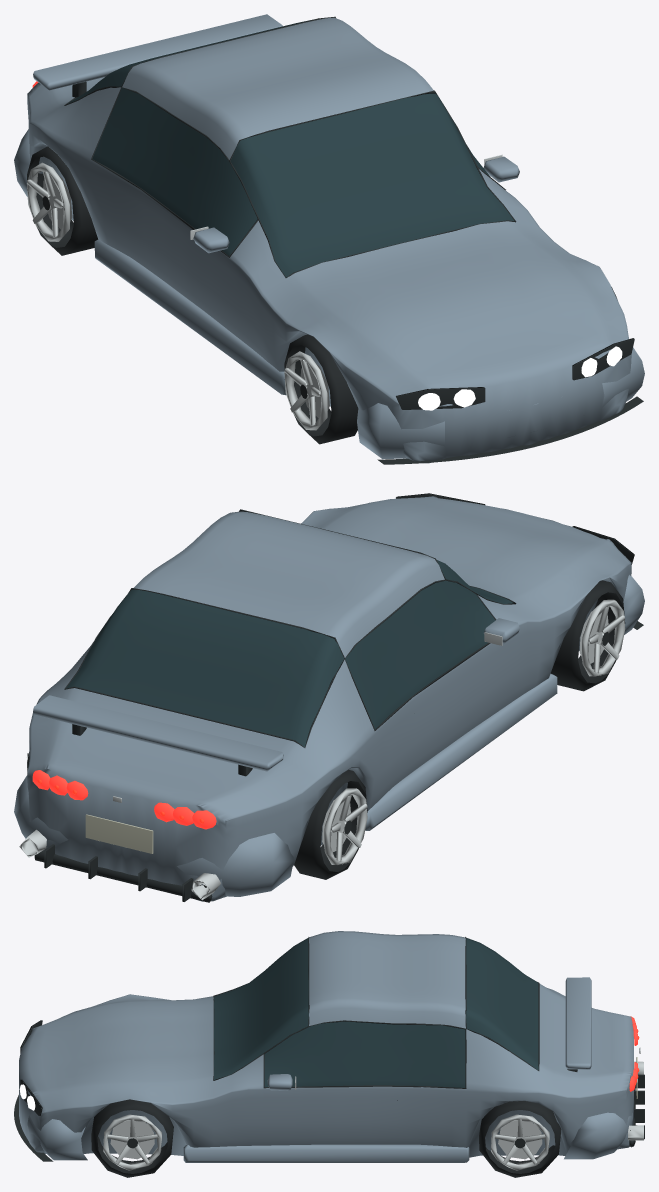
The model's file is neralith-averis.glb.
The picture shows the model from 3 angles, top to bottom: view 1: azimuth 30°, elevation 25°; view 2: azimuth 150°, elevation 25°; view 3: azimuth 270°, elevation 25°; orthographic projection. The views are drawn at different scales.
Visible parts, largest first — view 1: scocca, cofano, cristallo_ant, tetto, cristallo_sx, porta_sx, minigonna_sx, spoiler, paraurti_ant, ruota_ant_sx_gomma, ruota_post_sx_gomma, splitter_ant (+13 smaller); view 2: scocca, cristallo_post, tetto, cofano, portellone, cristallo_sx, porta_sx, spoiler, paraurti_post, minigonna_sx, ruota_ant_sx_gomma, ruota_post_sx_gomma (+9 smaller); view 3: scocca, cofano, tetto, porta_dx, cristallo_dx, cristallo_ant, cristallo_post, portellone, minigonna_dx, spoiler, ruota_ant_dx_gomma, paraurti_post (+13 smaller).
Part boxes in pixels (bbox=[...]): scocca: bbox=[27, 82, 631, 463]; cofano: bbox=[286, 221, 609, 380]; cristallo_ant: bbox=[230, 93, 514, 277]; tetto: bbox=[122, 17, 433, 159]; cristallo_sx: bbox=[92, 88, 257, 255]; porta_sx: bbox=[91, 160, 244, 342]; minigonna_sx: bbox=[94, 239, 286, 395]; spoiler: bbox=[33, 14, 282, 90]; paraurti_ant: bbox=[357, 347, 644, 459]; ruota_ant_sx_gomma: bbox=[284, 334, 358, 444]; ruota_post_sx_gomma: bbox=[27, 146, 97, 255]; splitter_ant: bbox=[377, 396, 643, 464]; scocca: bbox=[27, 496, 631, 901]; cristallo_post: bbox=[65, 589, 344, 747]; tetto: bbox=[134, 511, 444, 657]; cofano: bbox=[319, 497, 609, 604]; portellone: bbox=[42, 688, 304, 809]; cristallo_sx: bbox=[345, 580, 495, 729]; porta_sx: bbox=[368, 636, 516, 810]; spoiler: bbox=[33, 695, 283, 771]; paraurti_post: bbox=[14, 775, 293, 896]; minigonna_sx: bbox=[365, 673, 557, 830]; ruota_ant_sx_gomma: bbox=[550, 580, 625, 691]; ruota_post_sx_gomma: bbox=[294, 769, 367, 879]; scocca: bbox=[19, 988, 633, 1157]; cofano: bbox=[41, 996, 213, 1095]; tetto: bbox=[309, 931, 465, 1028]; porta_dx: bbox=[248, 1086, 465, 1147]; cristallo_dx: bbox=[264, 1021, 465, 1087]; cristallo_ant: bbox=[214, 937, 308, 1079]; cristallo_post: bbox=[466, 938, 538, 1070]; portellone: bbox=[539, 984, 633, 1082]; minigonna_dx: bbox=[183, 1144, 469, 1162]; spoiler: bbox=[565, 977, 591, 1069]; ruota_ant_dx_gomma: bbox=[91, 1099, 173, 1177]; paraurti_post: bbox=[564, 1112, 632, 1159].
Bounding box in the file's own units: 2.22 × 1.45 × 5.15.
